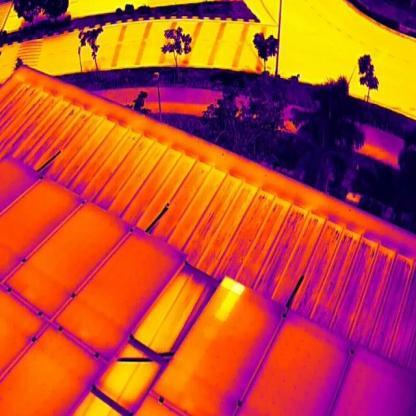anomaly: (212, 276, 251, 325)
